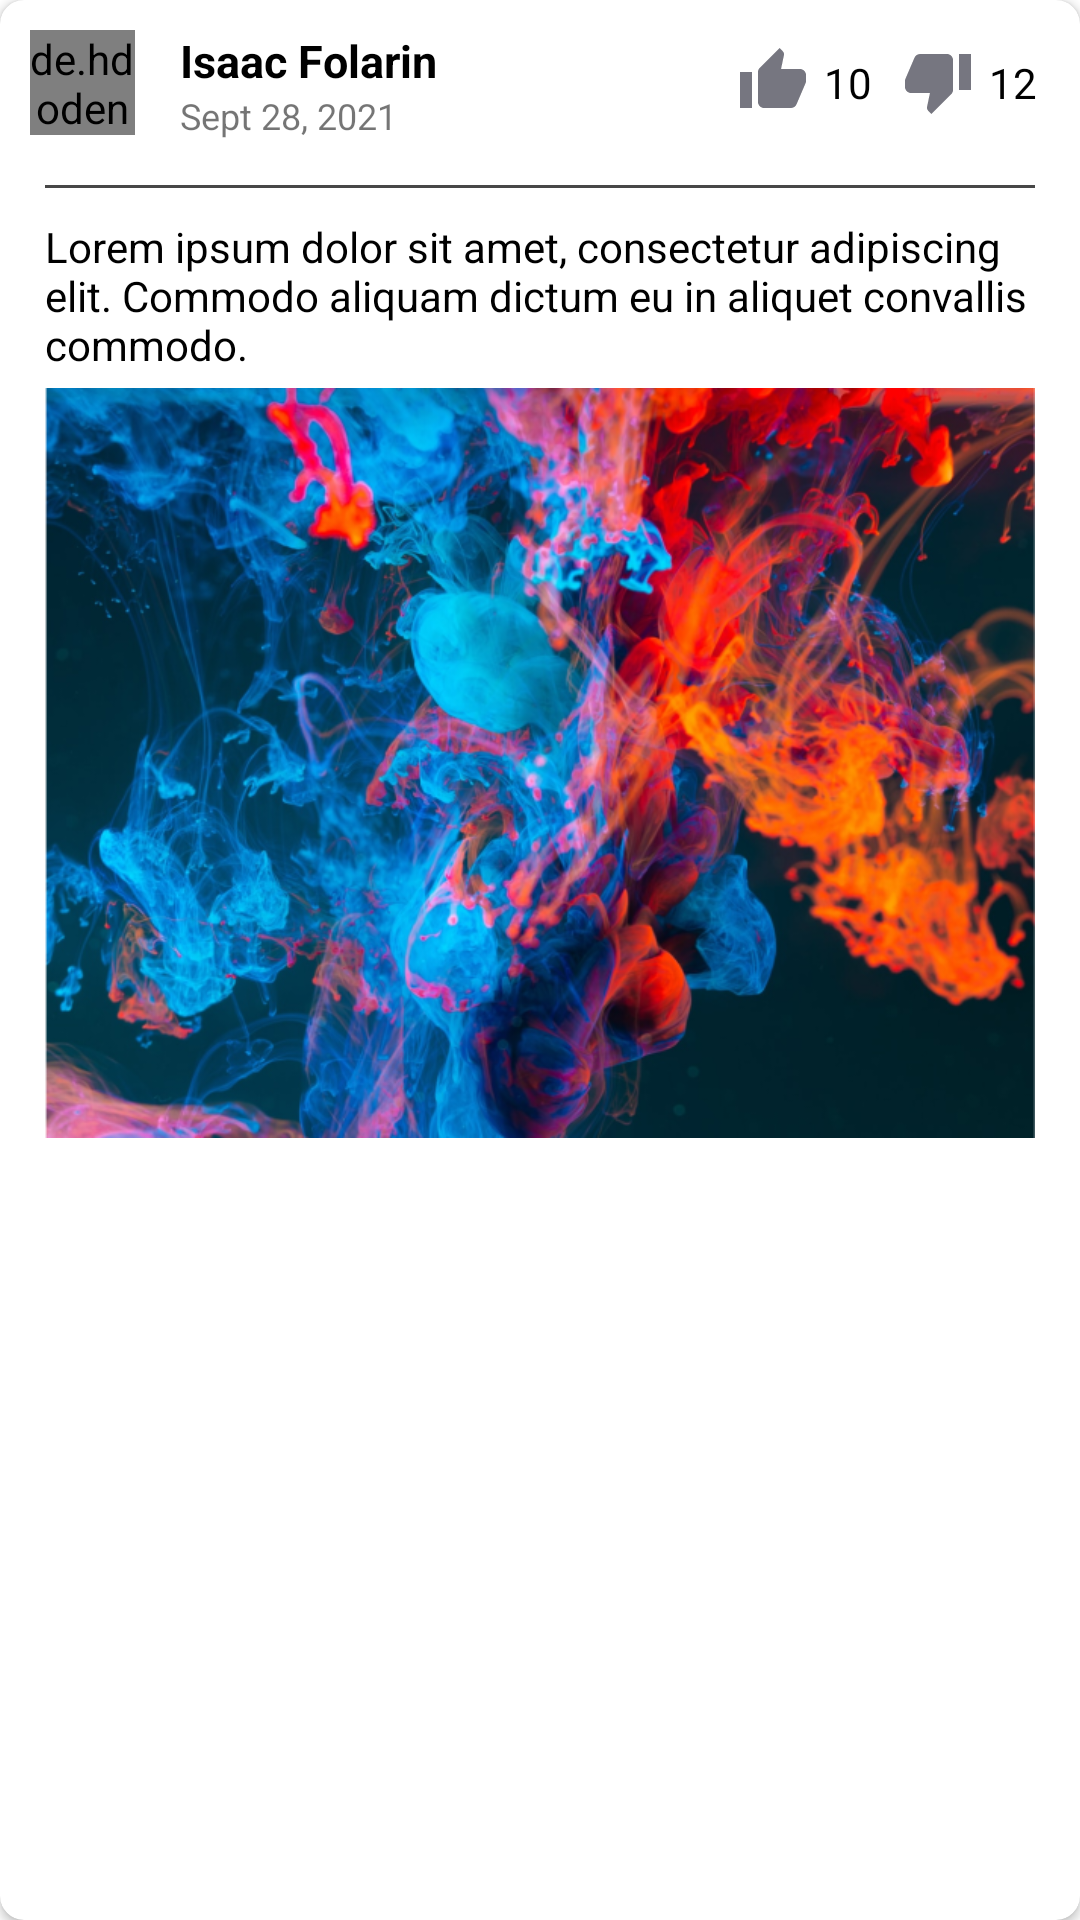

Named icons in this screenshot (1080 x 1920) and their centers, (x=x, y=y):
thumb down: (x=938, y=84)
thumb up: (x=773, y=78)
